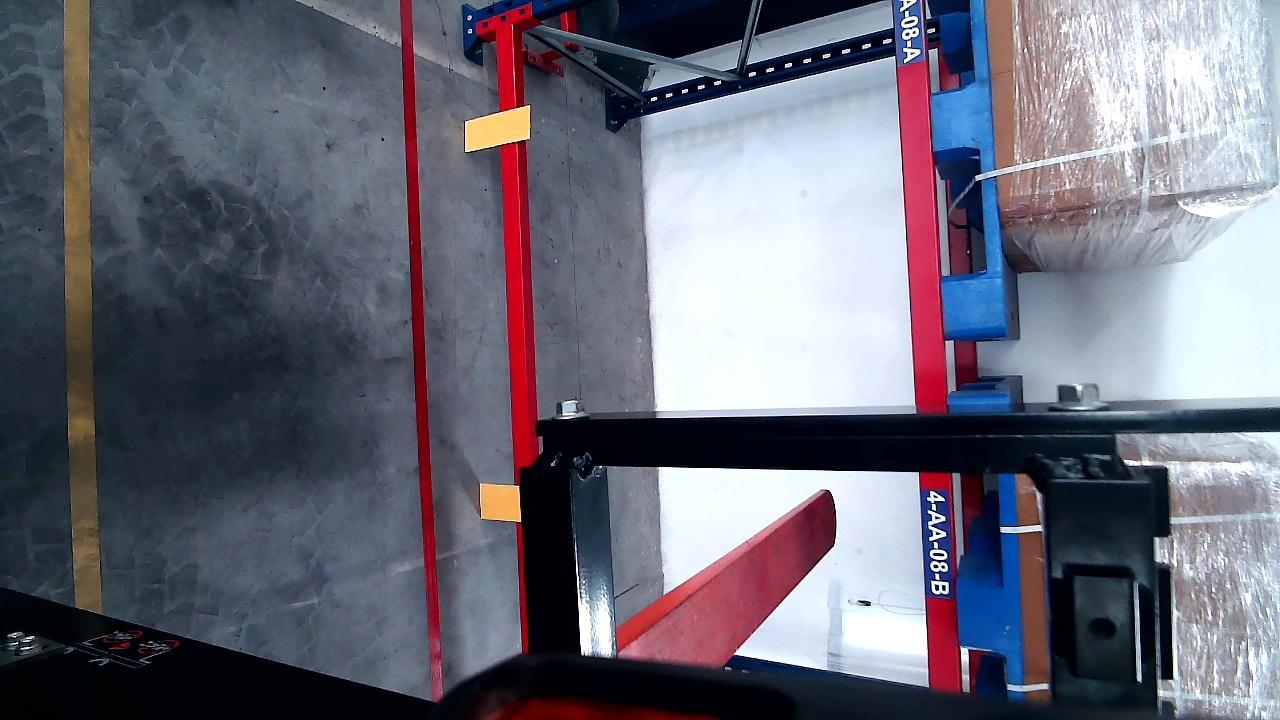red_line: (400, 0, 441, 698)
yellow_line: (61, 1, 101, 612)
